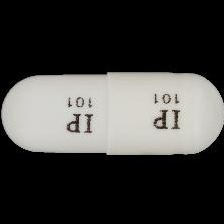0904-6078: (0, 0, 224, 224)
